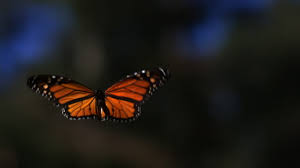Butterfly: (26, 66, 171, 122)
